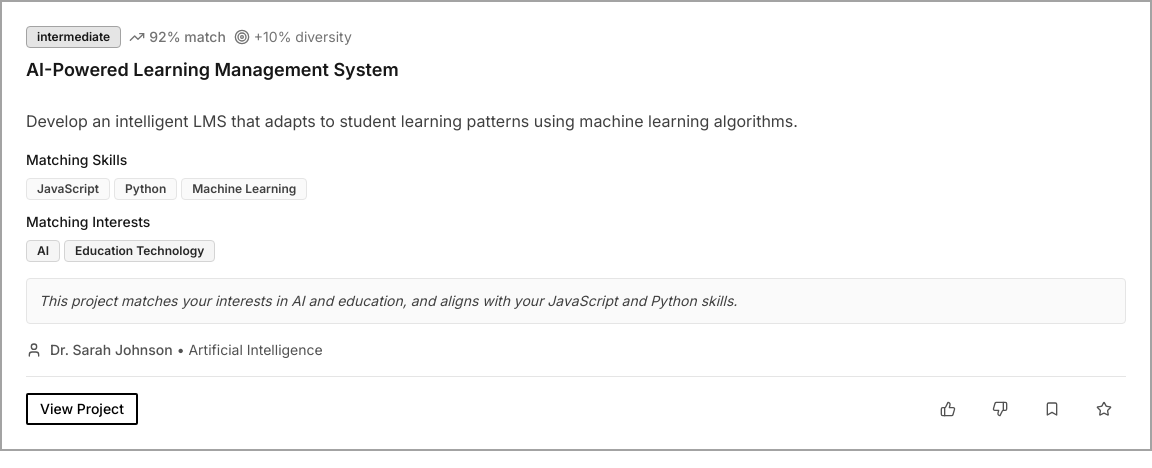
Test: RecommendationCard › shows rating interface when star button is clicked
Click the 5th button at x=1104, y=409, box [1082,393,1126,425]
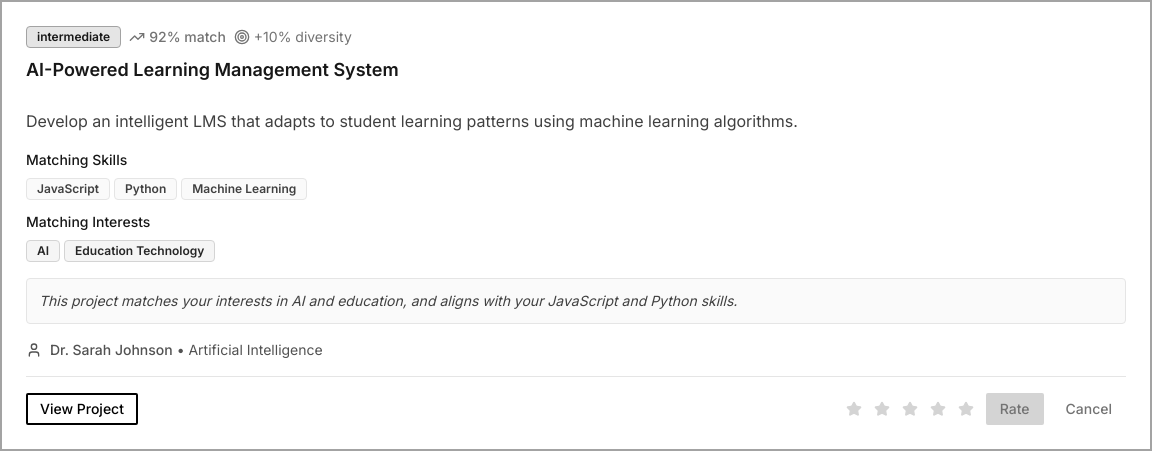
Expected: the button "Rate" is shown, [986,393,1044,425]
Expected: the button "Cancel" is shown, [1052,393,1126,425]
